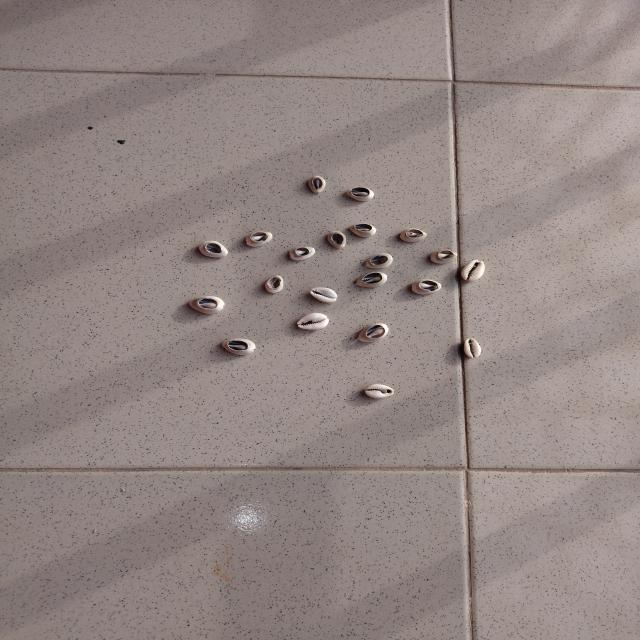facedown: (185, 292, 226, 316), (220, 336, 260, 357), (196, 240, 230, 260), (356, 323, 390, 343), (408, 278, 442, 297), (364, 251, 397, 270), (244, 229, 275, 248), (347, 186, 377, 203), (326, 229, 349, 251), (348, 222, 379, 238), (396, 227, 427, 242), (288, 245, 317, 261), (263, 274, 285, 295), (360, 271, 387, 288), (307, 174, 328, 195), (428, 248, 458, 262)
faceup: (458, 257, 485, 284), (296, 313, 330, 331), (362, 382, 395, 400), (460, 336, 482, 361), (310, 286, 340, 302)
